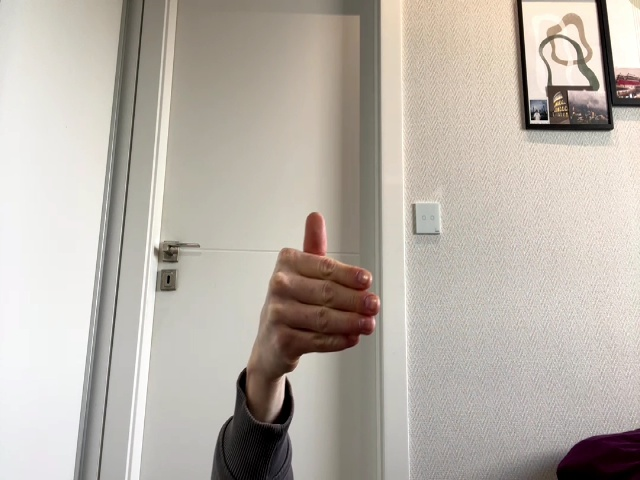M: (259, 213, 380, 374)
